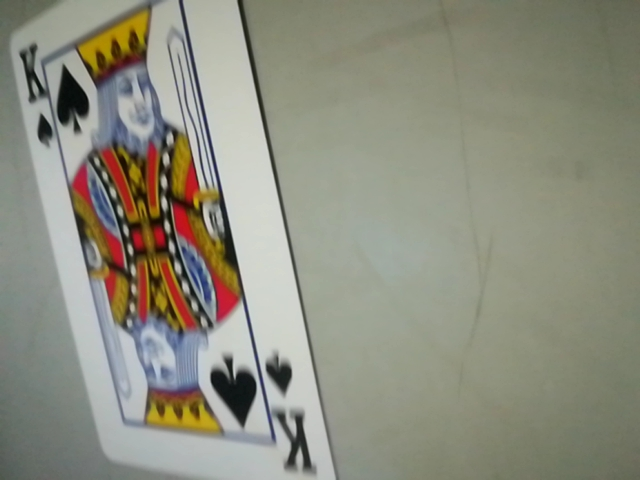ht k: (256, 336, 328, 480)
